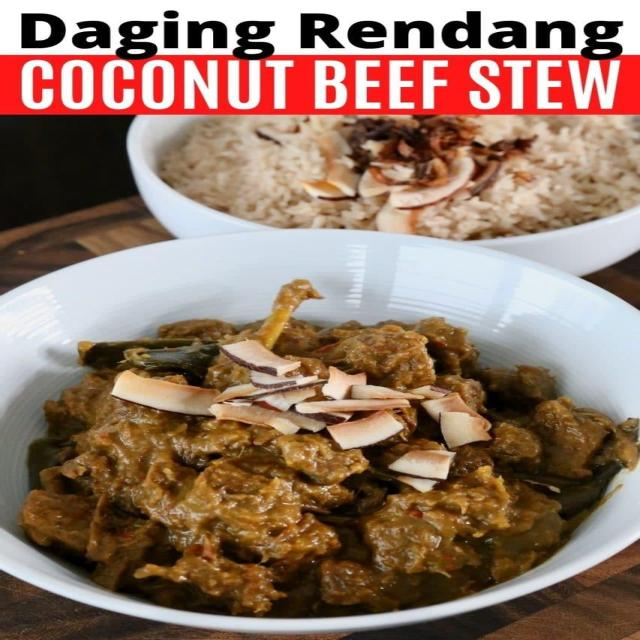Rendang: (39, 276, 625, 622)
